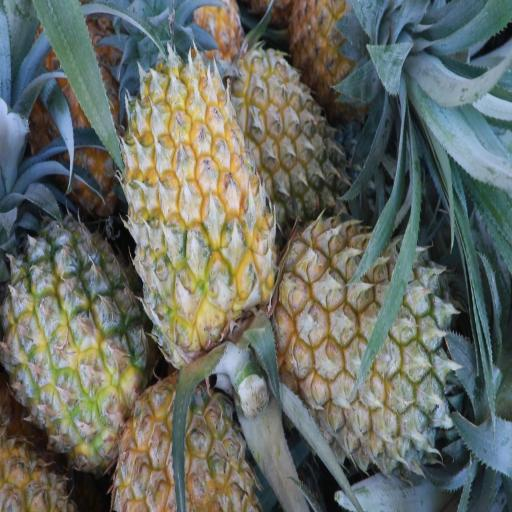------------------------------: (111, 362, 247, 512)
Pineapple - v8 v1: (122, 57, 271, 353), (6, 212, 142, 456), (294, 0, 381, 112)
